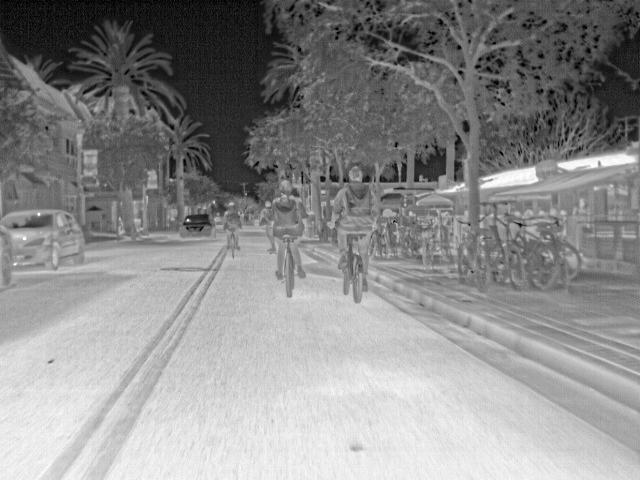car: (0, 207, 86, 271), (178, 213, 216, 237), (0, 222, 14, 287)
person: (336, 164, 376, 234), (272, 177, 303, 239), (258, 200, 276, 254), (223, 200, 241, 230), (571, 197, 591, 216), (116, 216, 125, 237)
